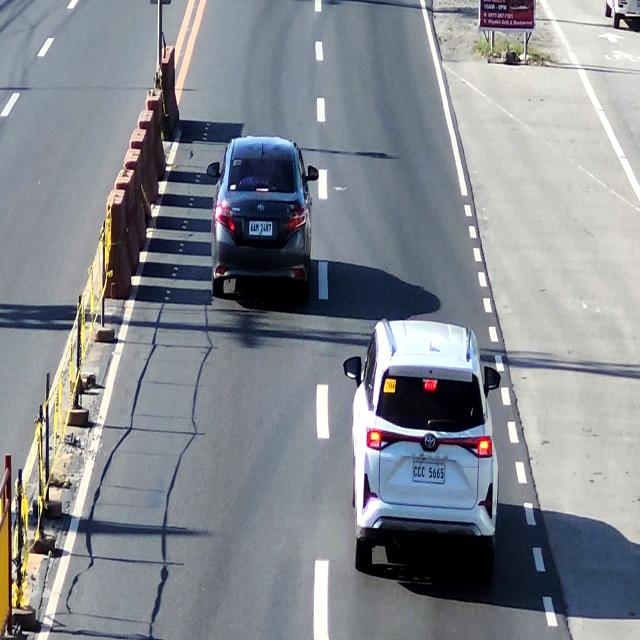Car: (353, 321, 498, 563), (210, 136, 309, 296)
License-Plate: (413, 458, 446, 490), (246, 217, 276, 244)
